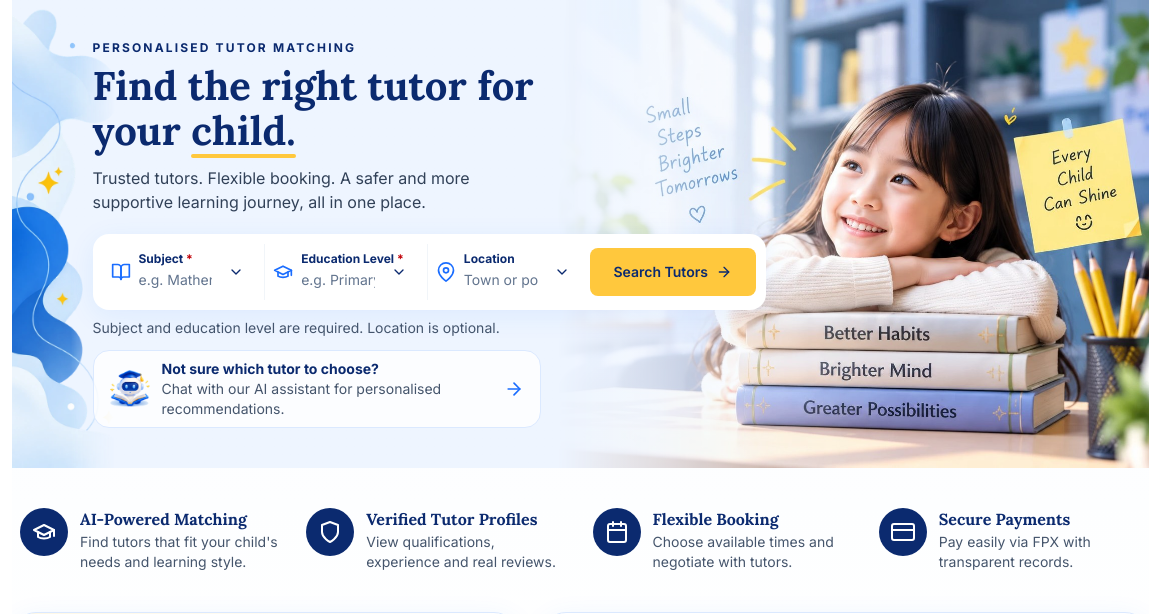
Scenario: landing page › a value that is not in the list is rejected
In the dropdown labelled "Subject *": (175, 280) [138, 268, 212, 292], type "Underwater basket weaving"
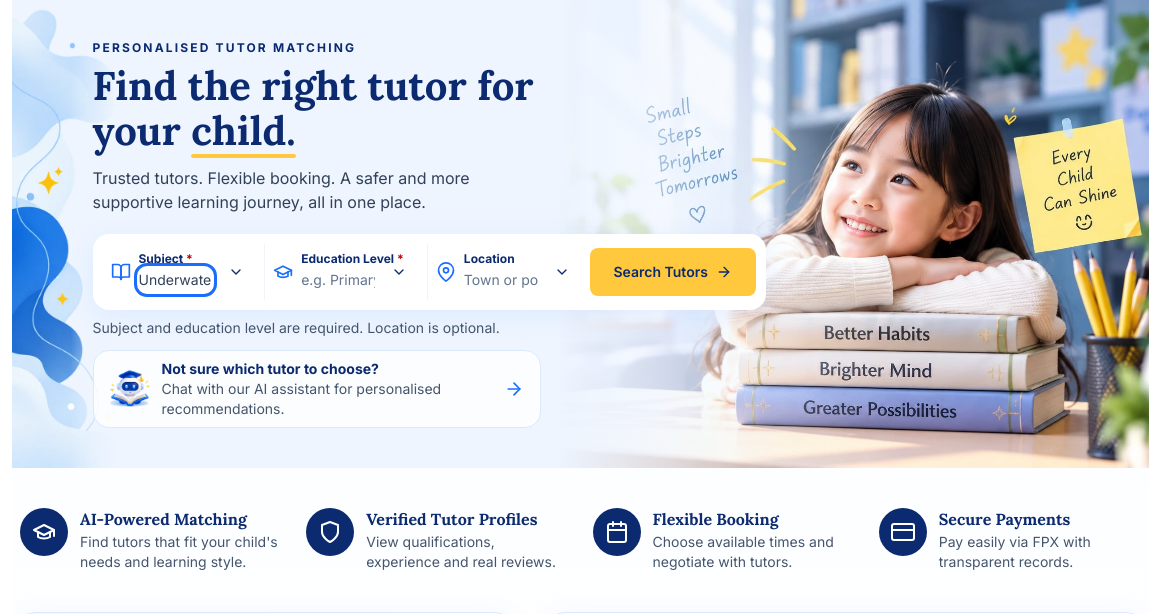
In the dropdown labelled "Education Level *": (338, 280) [301, 268, 375, 292], type "Primary"
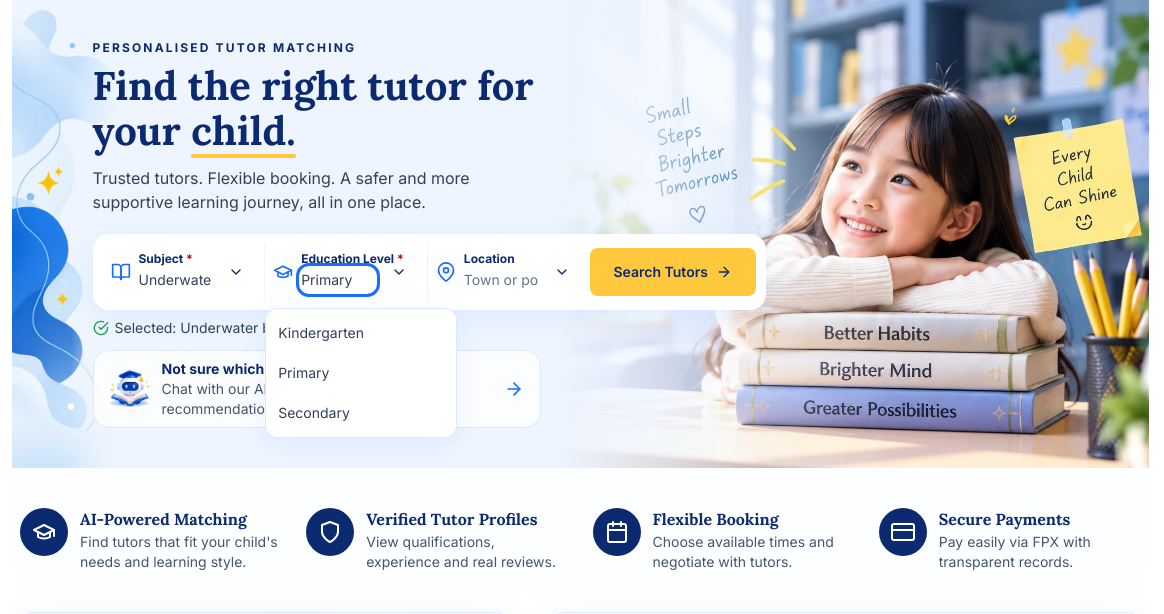
Click the button "Search Tutors": (673, 272) [590, 248, 756, 296]
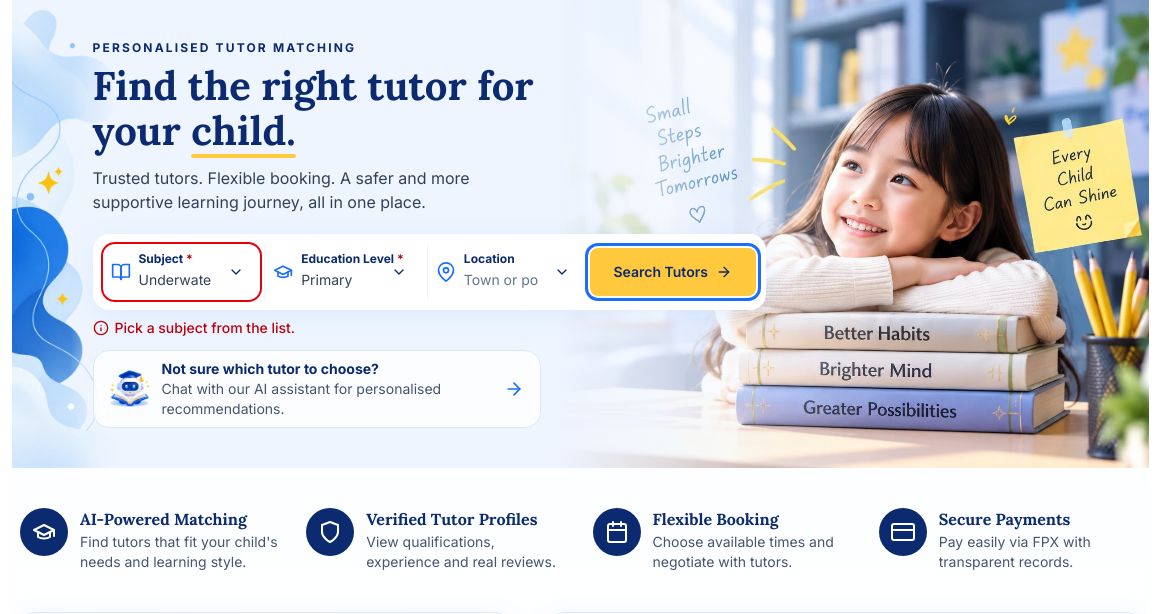
Result: the message reads "Pick a subject from the list." at [114, 319, 295, 336]
